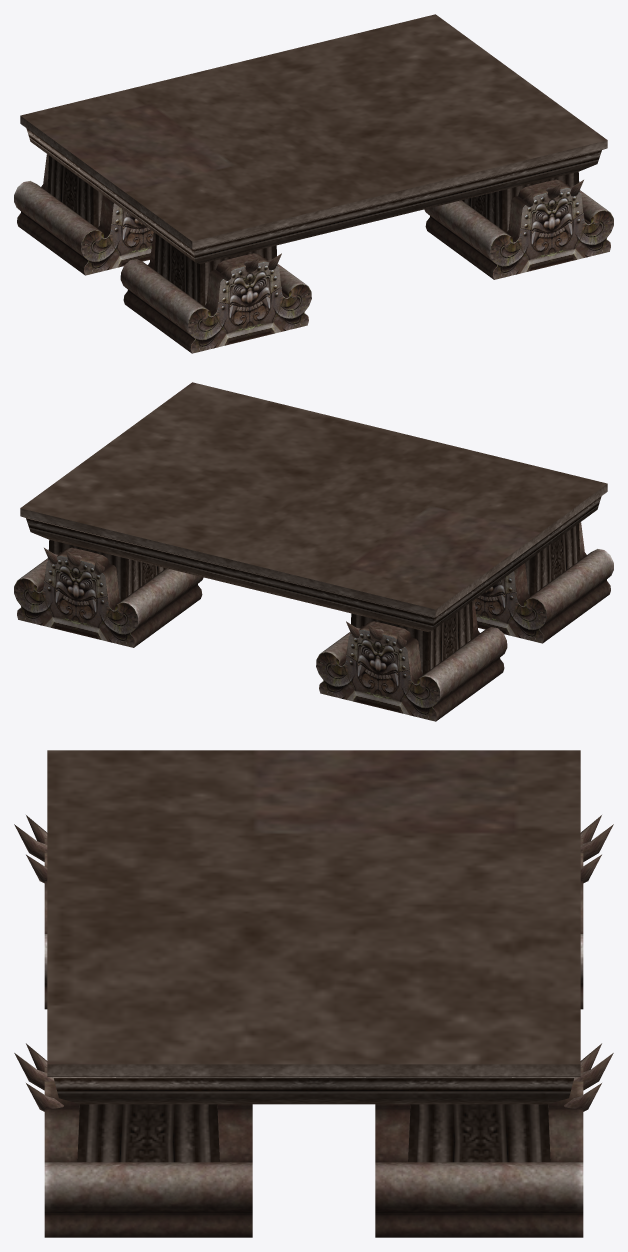
Rendered from LionTemple04.FBX.
3 views of the same model, one above another, from view 1: azimuth 30°, elevation 25°; view 2: azimuth 150°, elevation 25°; view 3: azimuth 270°, elevation 25° (orthographic). The views are drawn at different scales.
Visible parts, largest first — view 1: Object004; view 2: Object004; view 3: Object004.
Boxes of the visible parts, x1,y1,x2,y2 form: Object004: [14, 14, 613, 353]; Object004: [14, 382, 613, 721]; Object004: [14, 750, 613, 1237].
Bounding box in the file's own units: 267 × 66.59 × 210.
1 material, 1 textured.
